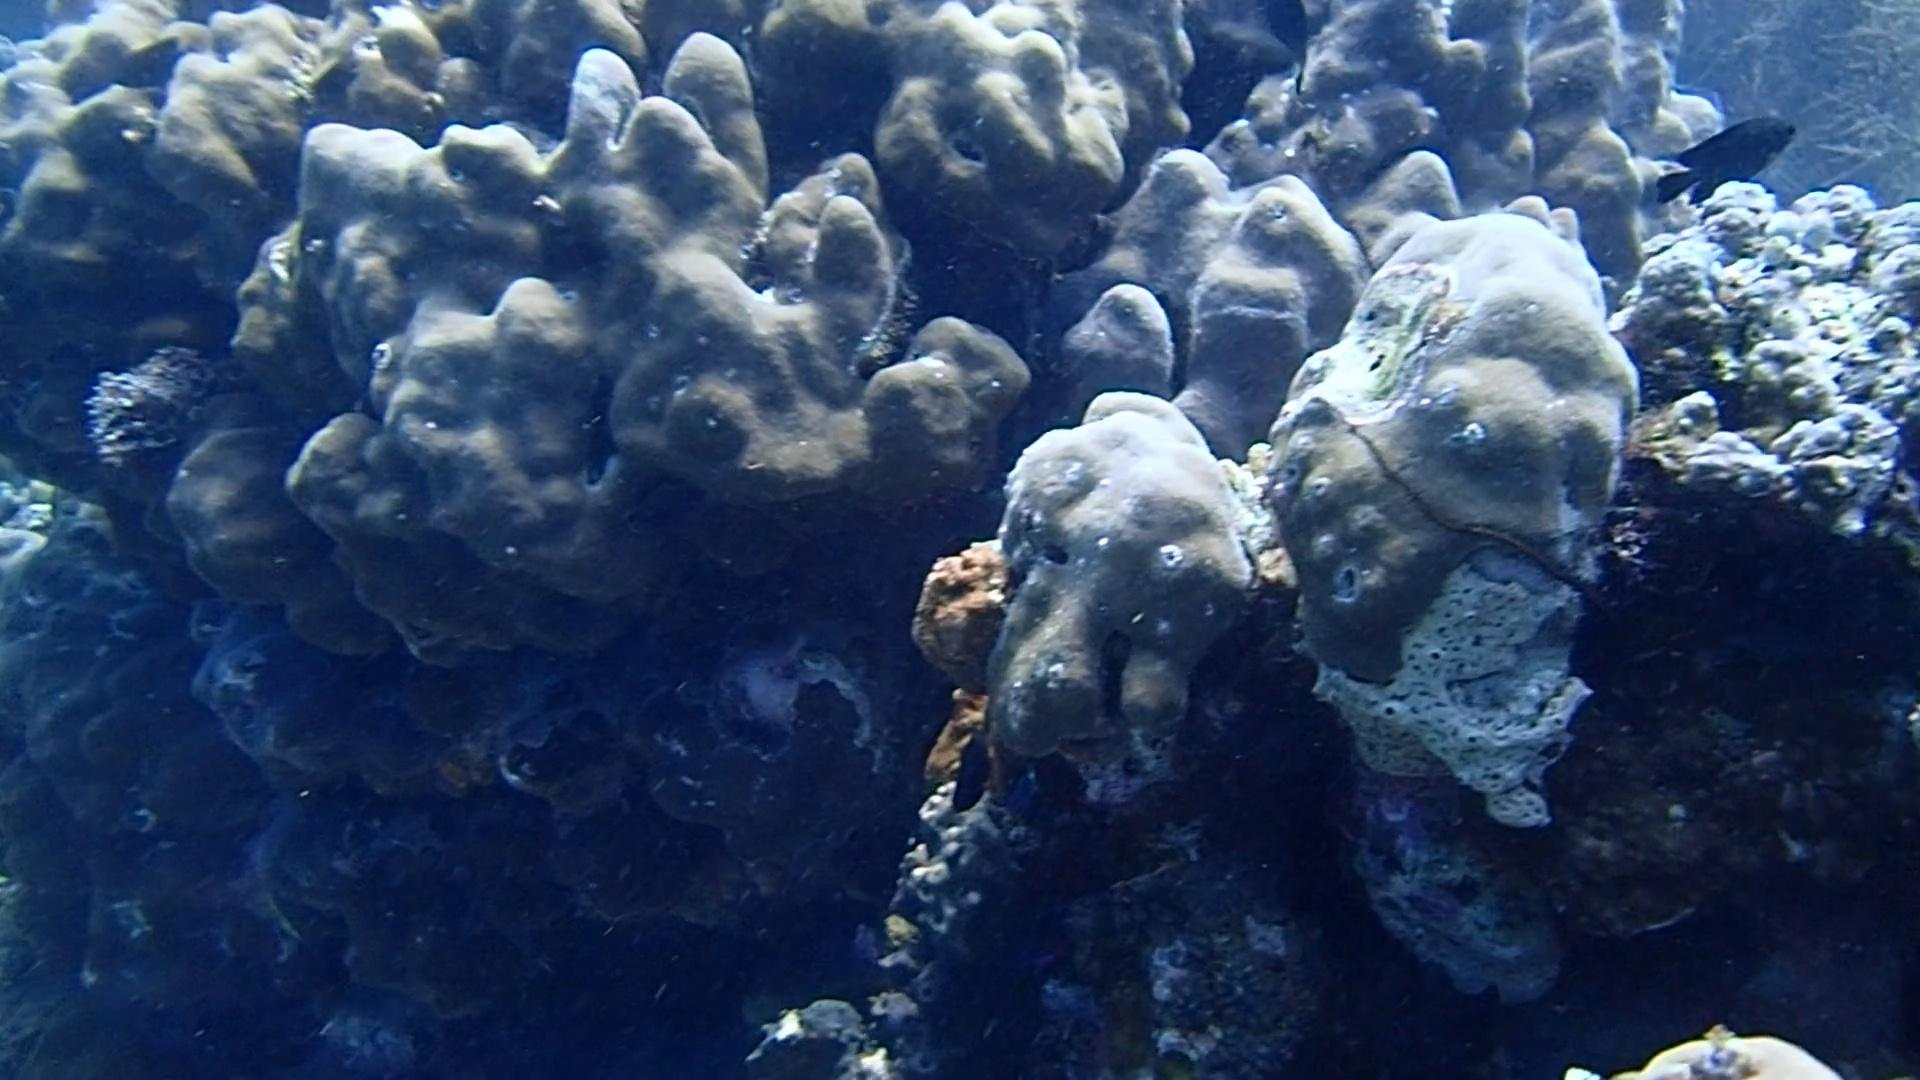Dark Fish: (1643, 104, 1809, 219), (942, 719, 1007, 818), (103, 37, 186, 99), (293, 53, 368, 117)
